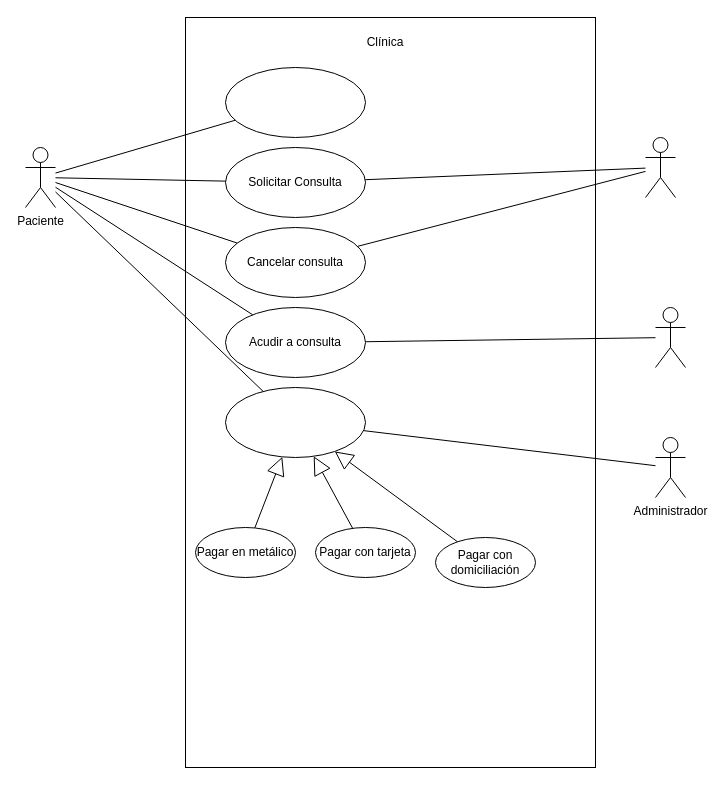
Some shapes in this 725 by 785 pixel diagram are drawn without their labels. The centre of each missing label's shape, as x and y in pixels:
"Auxiliar de clínica" goes at (660,167).
"Doctor" goes at (670,337).
"Identificarse" goes at (295,102).
"Pagar cuota" goes at (295,422).
